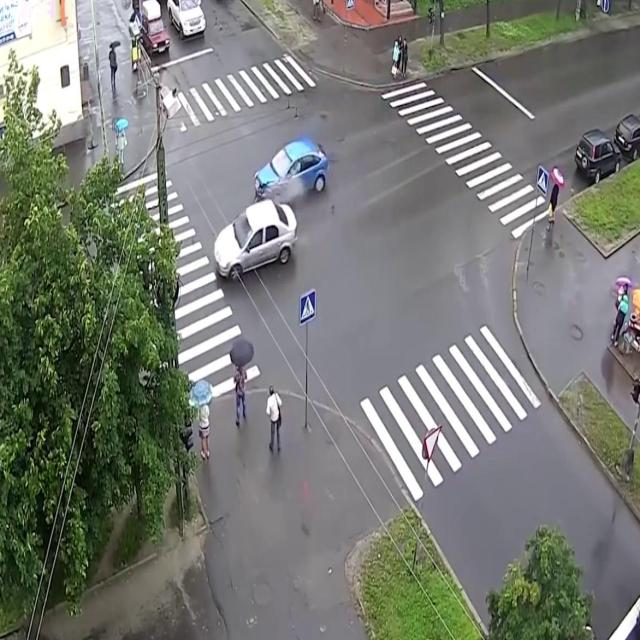accident: (213, 127, 331, 289)
